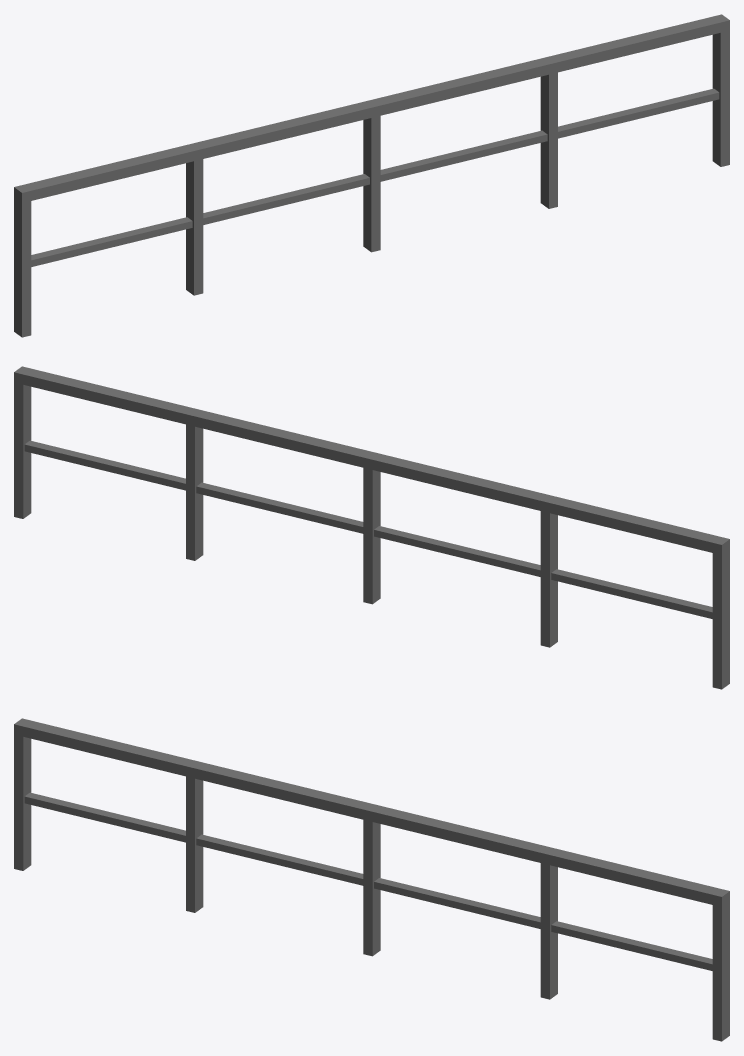
The model's file is Partitions_046.glb.
3 renders of one model, top to bottom at view 1: azimuth 30°, elevation 25°; view 2: azimuth 150°, elevation 25°; view 3: azimuth 330°, elevation 25°, orthographic.
Parts seen in each view (by area): view 1: Partitions_046; view 2: Partitions_046; view 3: Partitions_046.
Part boxes in pixels (x1,y1,x2,y2): Partitions_046: (14, 14, 729, 337); Partitions_046: (14, 366, 729, 689); Partitions_046: (14, 718, 729, 1041).
Bounding box in the file's own units: 4 × 0.781 × 0.0793.
1 material, 1 textured.
